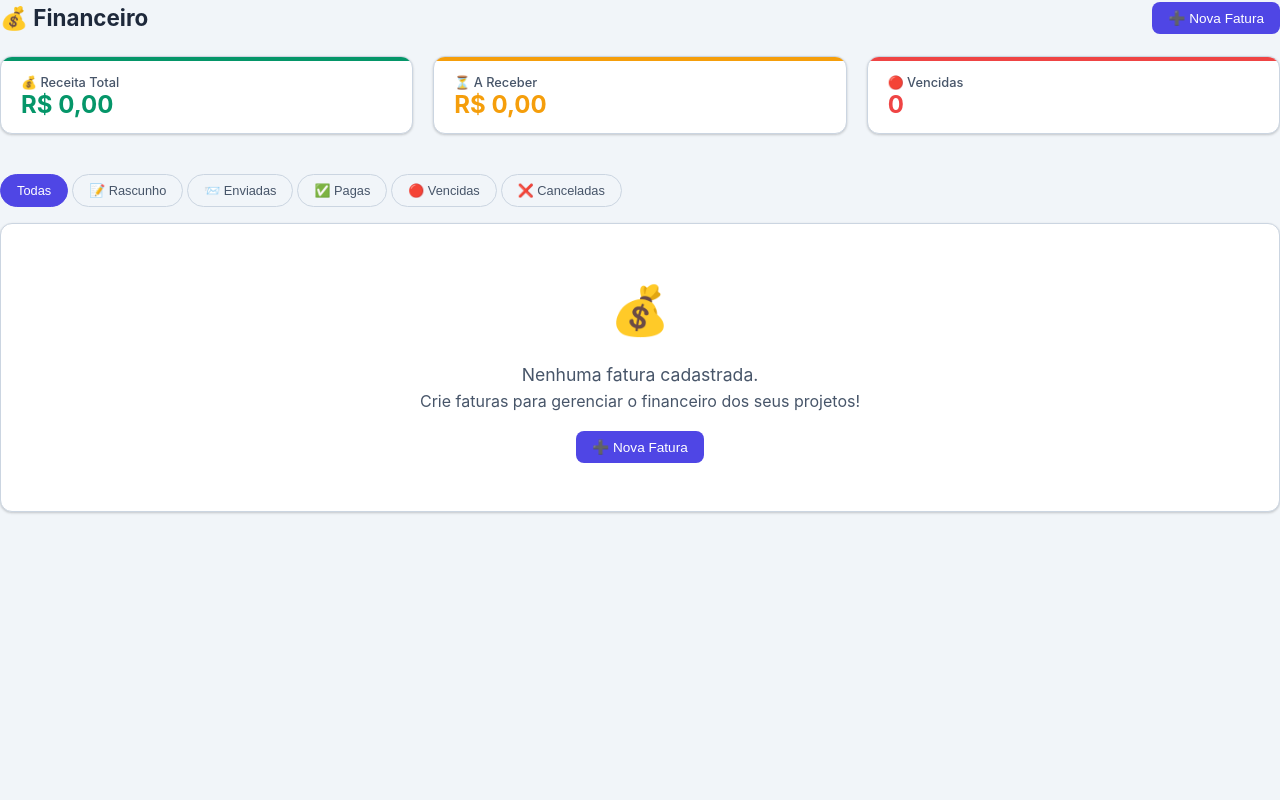
Finance › opens create modal when clicking Nova Fatura button
Click the button "➕ Nova Fatura" in the row of "💰 Financeiro".
click(1216, 18)  # box left=1152, top=2, right=1279, bottom=34
(page scrolled)
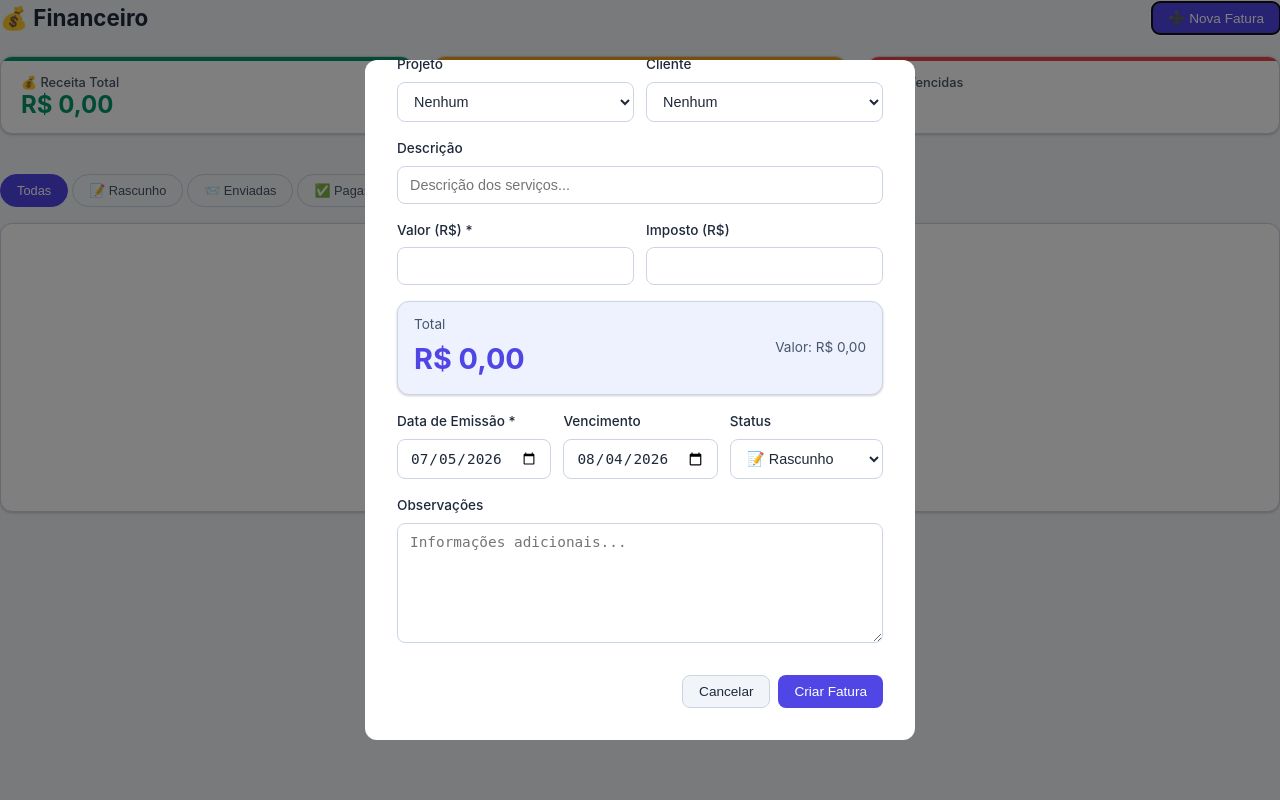
expect the button "Criar Fatura" is shown: met, box left=778, top=675, right=883, bottom=708
expect the button "Cancelar" is shown: met, box left=682, top=675, right=770, bottom=708
